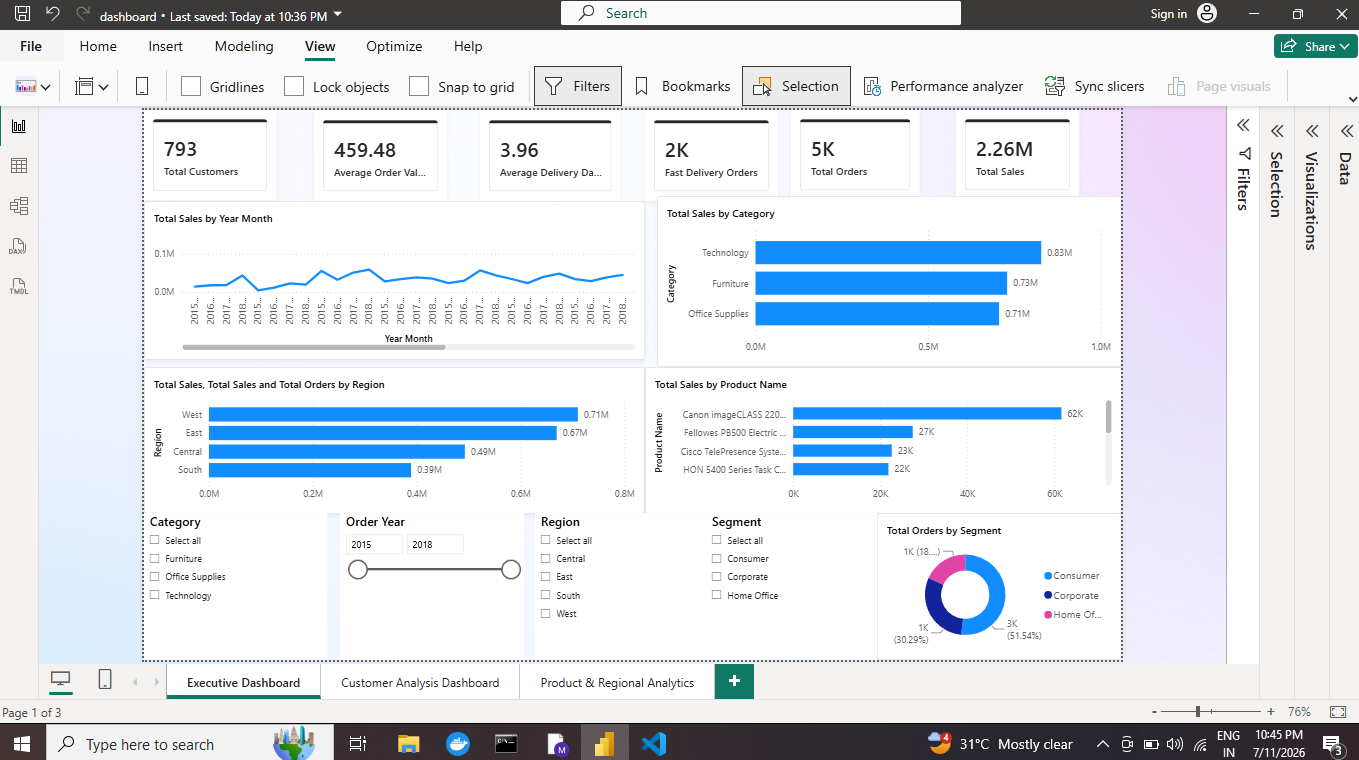

The dashboard page shown, as its layout file describes it:
{"tool":"powerbi","page":{"name":"Executive Dashboard","canvas":[1280,720],"ordinal":0},"visuals":[{"type":"cardVisual","fields":{"Data":["Table.Total Sales"]},"box":[1063,0,161.6,117.6],"z":0},{"type":"cardVisual","fields":{"Data":["Table.Total Orders"]},"box":[847.6,0,168.7,117.6],"z":1000},{"type":"cardVisual","fields":{"Data":["Table.Total Customers"]},"box":[0,0,173,118],"z":2000},{"type":"cardVisual","fields":{"Data":["Table.Average Order Value"]},"box":[222.5,1.4,174.3,117.6],"z":3000},{"type":"cardVisual","fields":{"Data":["Table.Average Delivery Days"]},"box":[439.4,1.4,184.3,117.6],"z":4000},{"type":"cardVisual","fields":{"Data":["Table.Fast Delivery Orders"]},"box":[656.2,1.4,174.3,117.6],"z":5000},{"type":"lineChart","fields":{"Y":["Table.Total Sales"],"Category":["Calendar.Year Month"]},"box":[0,119.1,656.2,208.3],"z":6000},{"type":"clusteredBarChart","fields":{"Category":["featured_data.Category"],"Y":["Table.Total Sales"]},"box":[672,112,608,224],"z":7000},{"type":"barChart","fields":{"Category":["featured_data.Region"],"Y":["Table.Total Sales"]},"box":[0,336,656,192],"z":8000},{"type":"barChart","fields":{"Category":["featured_data.Product Name"],"Y":["Table.Total Sales"]},"box":[656,336,624,192],"z":9000},{"type":"donutChart","fields":{"Category":["featured_data.Segment"],"Y":["Table.Total Orders"]},"box":[960,528,320,192],"z":10000},{"type":"slicer","fields":{"Values":["featured_data.Order Year"]},"box":[256,528,240,192],"z":11000},{"type":"slicer","fields":{"Values":["featured_data.Region"]},"box":[512,528,224,192],"z":12000},{"type":"slicer","fields":{"Values":["featured_data.Category"]},"box":[0,528,240,192],"z":13000},{"type":"slicer","fields":{"Values":["featured_data.Segment"]},"box":[736,528,224,192],"z":14000}]}

Visuals, with their boxes on the page's 1280x720 design canvas (x1, y1, x2, y2). These are canvas units, not pixel positions in the 1359x760 screenshot, which may show the page scaled, cropped or inside an application window:
cardVisual - Table.Total Sales: 1063/0/1225/118
cardVisual - Table.Total Orders: 848/0/1016/118
cardVisual - Table.Total Customers: 0/0/173/118
cardVisual - Table.Average Order Value: 222/1/397/119
cardVisual - Table.Average Delivery Days: 439/1/624/119
cardVisual - Table.Fast Delivery Orders: 656/1/830/119
lineChart - Table.Total Sales x Calendar.Year Month: 0/119/656/327
clusteredBarChart - featured_data.Category x Table.Total Sales: 672/112/1280/336
barChart - featured_data.Region x Table.Total Sales: 0/336/656/528
barChart - featured_data.Product Name x Table.Total Sales: 656/336/1280/528
donutChart - featured_data.Segment x Table.Total Orders: 960/528/1280/720
slicer - featured_data.Order Year: 256/528/496/720
slicer - featured_data.Region: 512/528/736/720
slicer - featured_data.Category: 0/528/240/720
slicer - featured_data.Segment: 736/528/960/720
